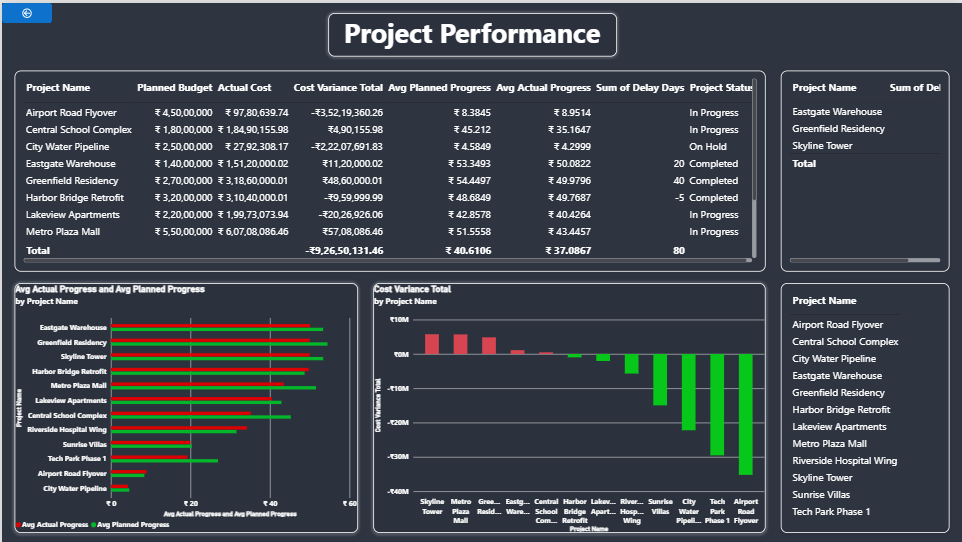

What the dashboard file says about the page in this screenshot:
{"tool":"powerbi","page":{"name":"Project Performance","canvas":[1920,1080],"ordinal":1},"visuals":[{"type":"tableEx","fields":{"Values":["Projects.Project Name","Projects.Planned Budget","Projects.Actual Cost","_Measures.Cost Variance Total","_Measures.Avg Planned Progress","_Measures.Avg Actual Progress","Sum(Projects.Delay Days)","Projects.Project Status"]},"box":[25,135,1502.5,402.5],"z":0},{"type":"clusteredBarChart","fields":{"Category":["Projects.Project Name"],"Y":["_Measures.Avg Actual Progress","_Measures.Avg Planned Progress"]},"box":[25,560,687.5,500],"z":1000},{"type":"clusteredColumnChart","fields":{"Category":["Projects.Project Name"],"Y":["_Measures.Cost Variance Total"]},"box":[742.5,560,785,500],"z":2000},{"type":"tableEx","fields":{"Values":["Projects.Project Name","Sum(Projects.Delay Days)"]},"box":[1557.5,135,337.5,402.5],"z":3000},{"type":"tableEx","fields":{"Values":["Projects.Project Name"]},"box":[1557.5,560,337.5,500],"z":4000},{"type":"actionButton","box":[0,0,100,40],"z":5000},{"type":"textbox","box":[652.5,20,577.5,87.5],"z":5001}]}

Visuals, with their boxes in screenshot pixels (x1, y1, x2, y2), scaled from the page's 1920x1080 canvas onto the 962x542 screenshot:
tableEx - Projects.Project Name x Projects.Planned Budget: Rect(13, 68, 765, 270)
clusteredBarChart - Projects.Project Name x _Measures.Avg Actual Progress: Rect(13, 281, 357, 532)
clusteredColumnChart - Projects.Project Name x _Measures.Cost Variance Total: Rect(372, 281, 765, 532)
tableEx - Projects.Project Name x Sum(Projects.Delay Days): Rect(780, 68, 949, 270)
tableEx - Projects.Project Name: Rect(780, 281, 949, 532)
actionButton: Rect(0, 0, 50, 20)
textbox: Rect(327, 10, 616, 54)
